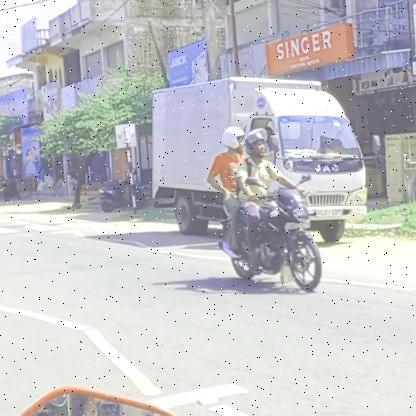motorcycle: (214, 186, 328, 296)
